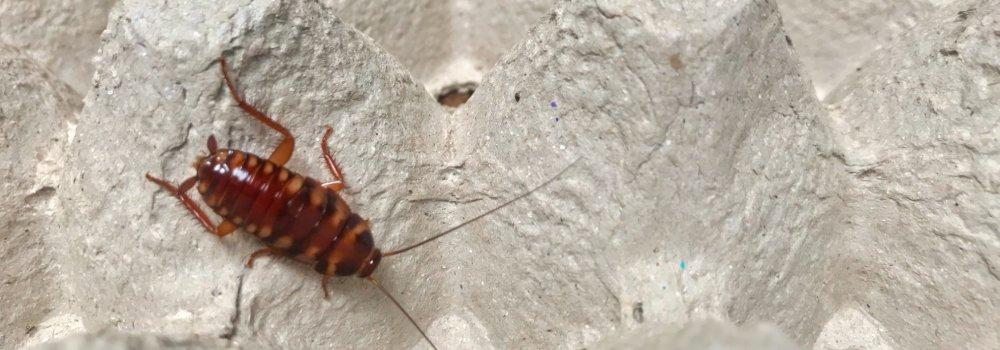cockroach: (189, 136, 385, 286)
